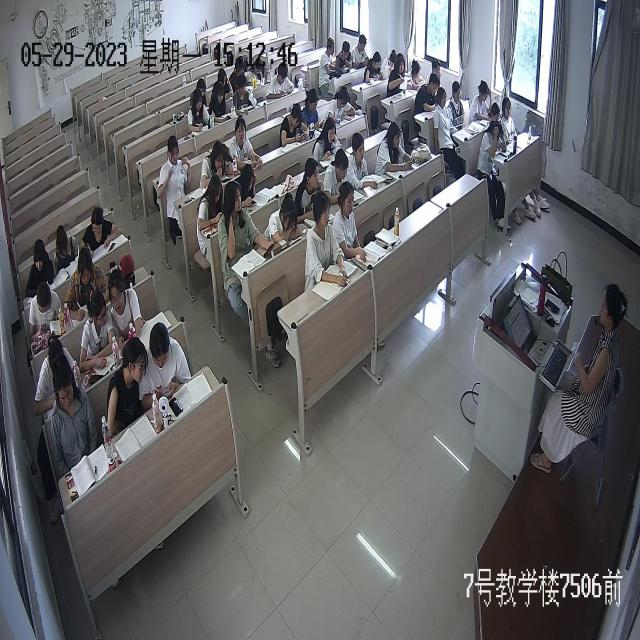distracted: (50, 360, 98, 470), (107, 340, 149, 430), (107, 261, 144, 344), (80, 288, 116, 369), (159, 136, 193, 212), (231, 115, 263, 171), (54, 225, 80, 271), (319, 36, 337, 81), (334, 41, 354, 78)
focused: (306, 190, 348, 289), (34, 335, 80, 413), (67, 250, 109, 319), (334, 184, 368, 262), (348, 130, 380, 196), (78, 206, 124, 251), (296, 156, 326, 222), (197, 174, 225, 236), (27, 239, 55, 295), (313, 118, 342, 168), (326, 150, 349, 206), (480, 119, 507, 163), (266, 62, 294, 104), (208, 81, 233, 126), (434, 86, 453, 145), (469, 81, 494, 125), (500, 94, 519, 150), (233, 74, 256, 116), (447, 80, 466, 130), (386, 52, 408, 92), (246, 54, 268, 90), (350, 33, 370, 69), (230, 56, 249, 90), (362, 51, 382, 83), (431, 56, 443, 105), (381, 48, 398, 78), (487, 102, 501, 134)
sleep: (266, 193, 302, 246)
using_phone: (219, 179, 276, 266), (139, 323, 191, 410), (378, 121, 418, 177), (29, 283, 64, 344), (199, 141, 235, 191), (280, 104, 311, 146), (327, 84, 357, 126), (187, 86, 213, 134), (237, 162, 260, 212), (415, 70, 441, 113), (304, 87, 326, 133), (404, 58, 430, 92), (216, 67, 235, 103)
